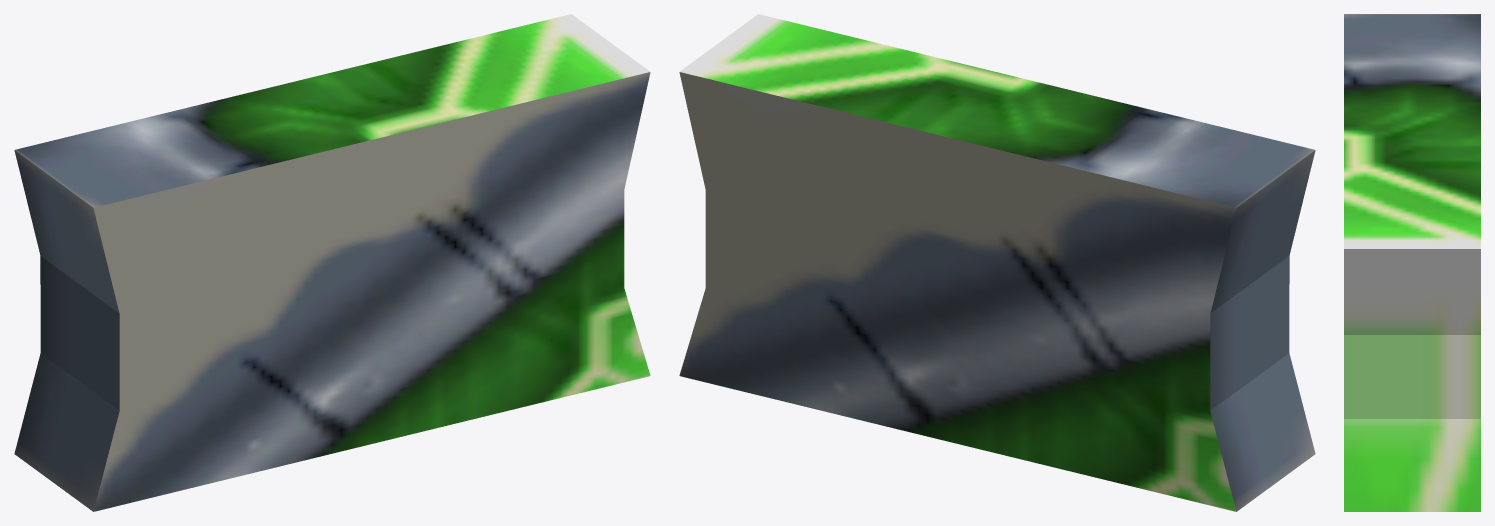
The model's file is icon.ico.obj.
3 renders of one model, left to right at view 1: azimuth 30°, elevation 25°; view 2: azimuth 150°, elevation 25°; view 3: azimuth 270°, elevation 25°, orthographic. The views are drawn at different scales.
Bounding box in the file's own units: 3.89 × 2.03 × 0.9575.
